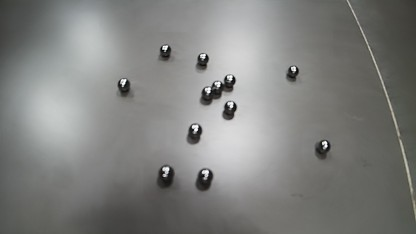ironball: (197, 168, 213, 184), (158, 165, 173, 182), (315, 139, 330, 154), (188, 123, 202, 138), (224, 100, 237, 115), (117, 78, 130, 92), (286, 65, 299, 78), (211, 80, 223, 94), (201, 86, 213, 100), (223, 74, 235, 87), (159, 44, 171, 57), (197, 52, 208, 65)
